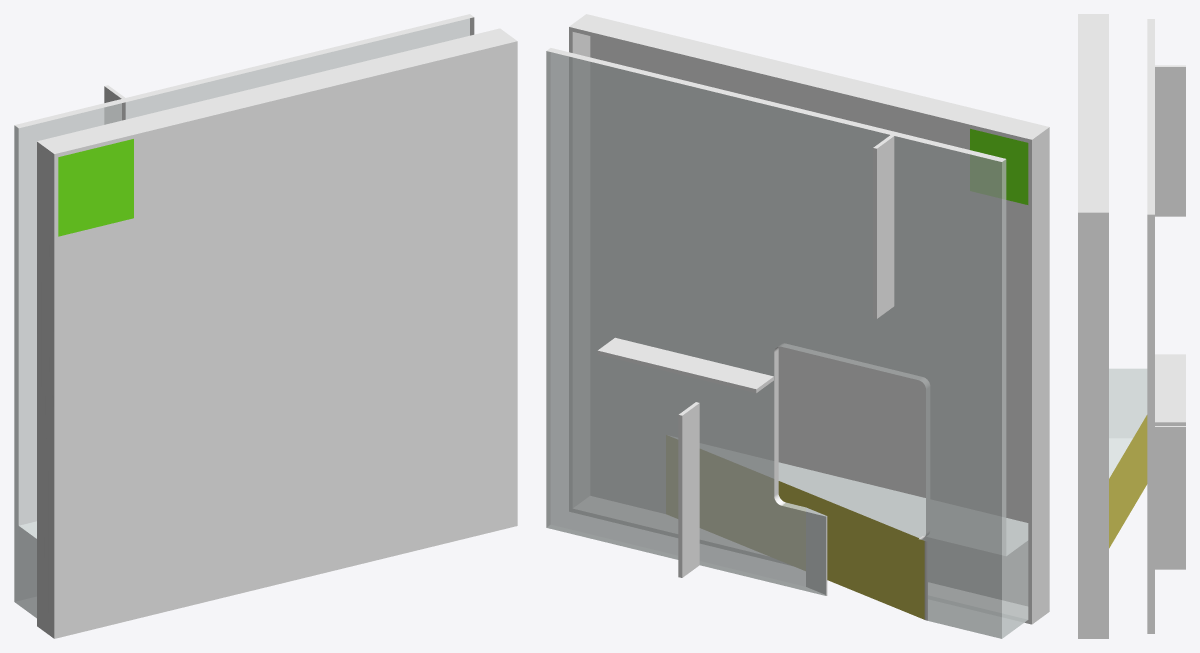
Rendered from field.dae.
3 renders of one model, left to right at view 1: azimuth 30°, elevation 25°; view 2: azimuth 150°, elevation 25°; view 3: azimuth 270°, elevation 25°, orthographic. The views are drawn at different scales.
Parts seen in each view (by area): view 1: ____ (×3); view 2: ____ (×3); view 3: ____.
Boxes of the visible parts, bbox=[...] form: ____ (×3): bbox=[14, 14, 517, 638]; ____ (×3): bbox=[546, 14, 1049, 638]; ____: bbox=[1078, 14, 1185, 638].
Size of the model in its own units: 6100 by 1400 by 6100.
